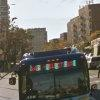Bus: (16, 47, 91, 100)
